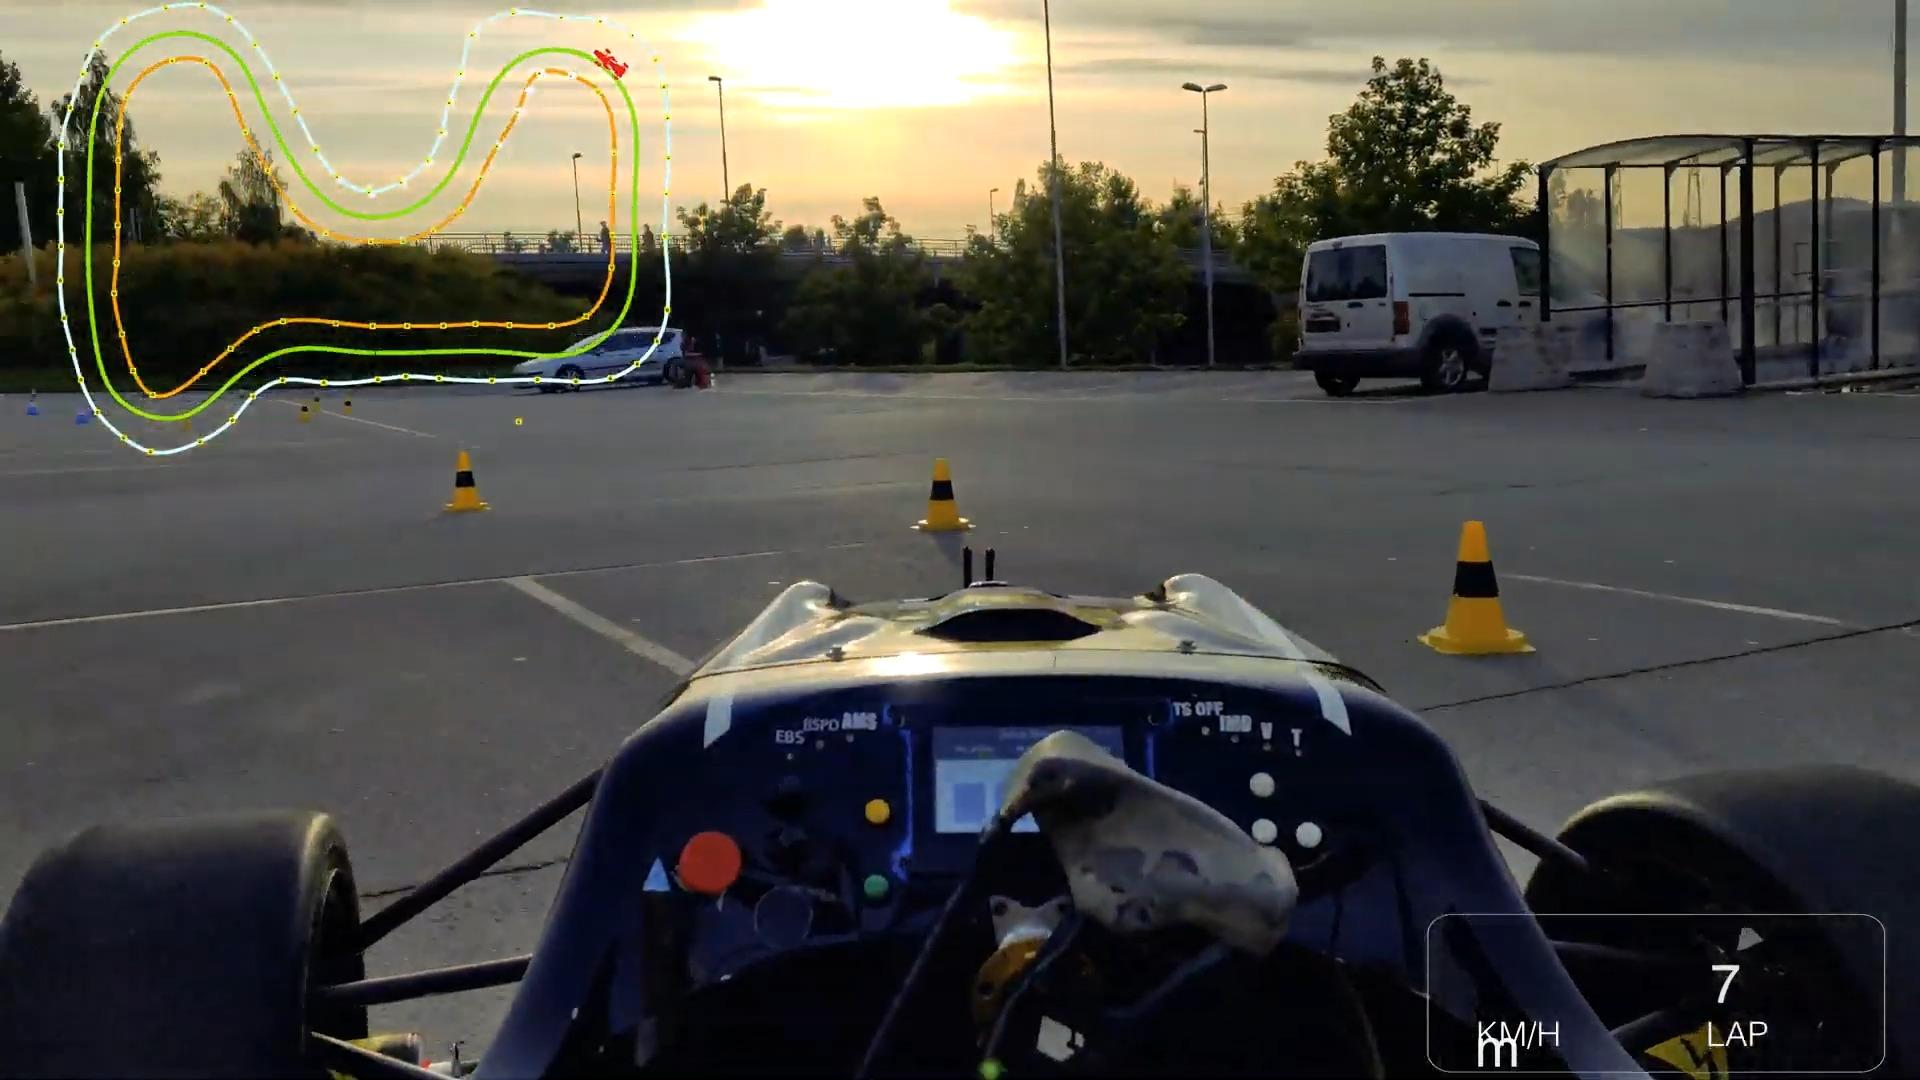blue_cone: (74, 405, 93, 428), (24, 398, 42, 419)
yellow_cone: (1415, 520, 1542, 669), (905, 458, 978, 545), (443, 448, 492, 513), (293, 401, 313, 427), (341, 393, 358, 418), (310, 391, 327, 415)
